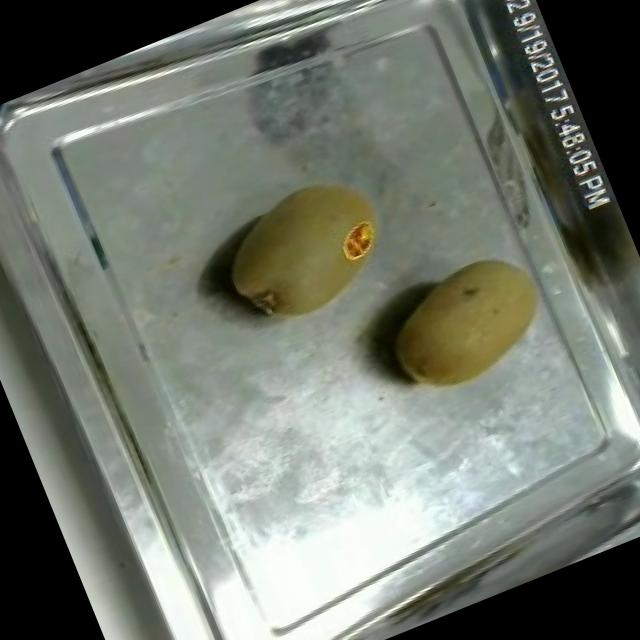Fruit: (198, 155, 418, 351), (358, 234, 572, 421)
